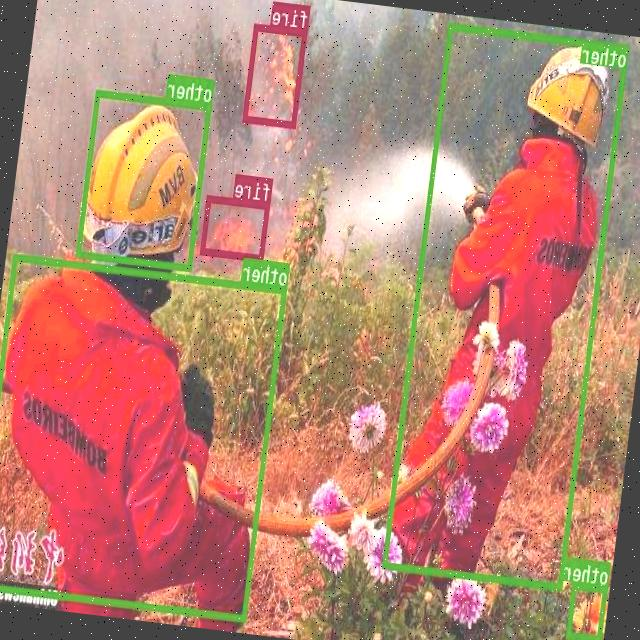fire: (243, 23, 308, 127), (200, 194, 270, 260)
